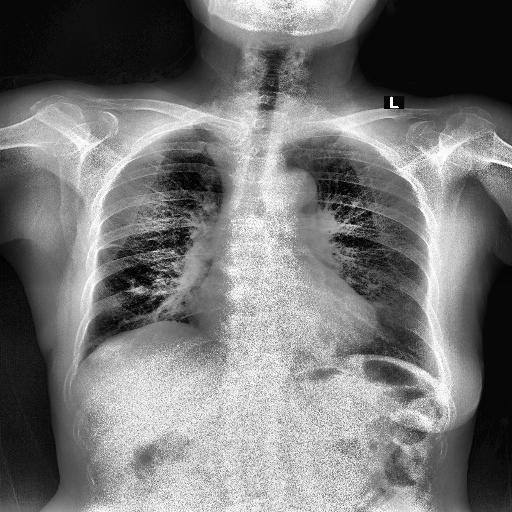0- Aortic enlargement: (261, 168, 319, 219), (265, 163, 317, 216), (273, 168, 317, 212)
13- Pulmonary fibrosis: (128, 278, 144, 296), (101, 242, 121, 250), (99, 243, 123, 249), (95, 244, 119, 248)
3- Cardiomegaly: (189, 276, 381, 355)
